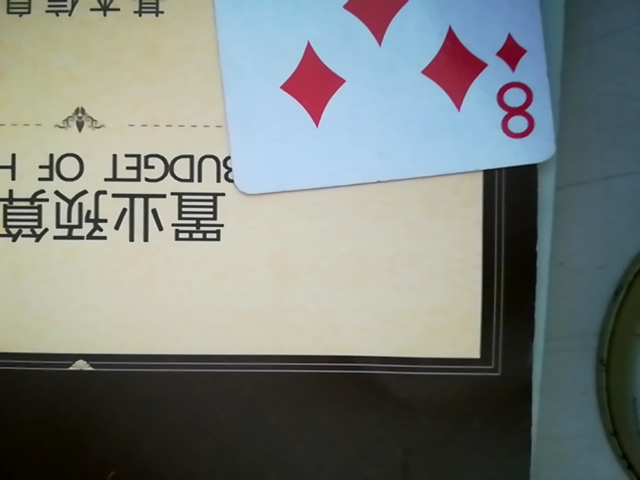fk 8: (199, 1, 563, 201)
